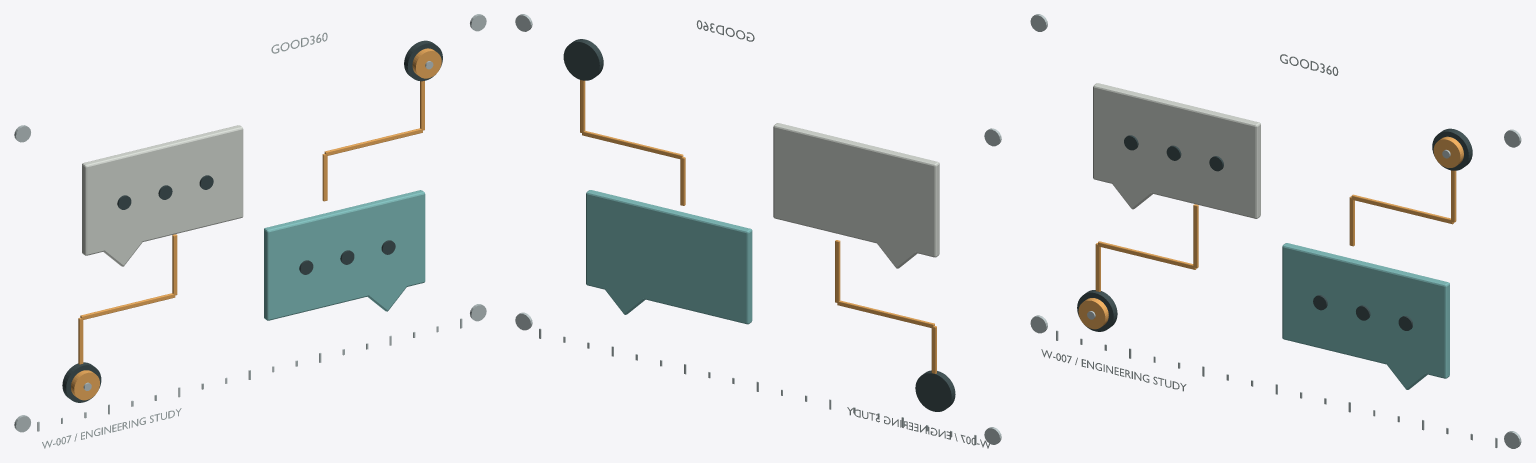
Rendered from good360.glb.
3 views of the same model, side by side, from view 1: azimuth 30°, elevation 25°; view 2: azimuth 150°, elevation 25°; view 3: azimuth 330°, elevation 25° (orthographic). The views are drawn at different scales.
Parts seen in each view (by area): view 1: optical-core__Project_Trace.002, optical-core__Project_Ceramic.005, optical-lenses__Project_Amber.002, optical-lenses__Project_Silver.006, optical-core__Project_Graphite.006, optical-core__Project_Amber.006; view 2: optical-core__Project_Ceramic.005, optical-core__Project_Trace.002, optical-core__Project_Graphite.006, optical-lenses__Project_Amber.002, optical-lenses__Project_Silver.006; view 3: optical-core__Project_Trace.002, optical-core__Project_Ceramic.005, optical-lenses__Project_Amber.002, optical-lenses__Project_Silver.006, optical-core__Project_Graphite.006, optical-core__Project_Amber.006.
Boxes of the visible parts, x1=… form: optical-core__Project_Trace.002: x1=264, y1=190, x2=425, y2=320; optical-core__Project_Ceramic.005: x1=82, y1=125, x2=243, y2=266; optical-lenses__Project_Amber.002: x1=78, y1=81, x2=424, y2=364; optical-lenses__Project_Silver.006: x1=14, y1=14, x2=486, y2=448; optical-core__Project_Graphite.006: x1=62, y1=40, x2=442, y2=402; optical-core__Project_Amber.006: x1=71, y1=48, x2=441, y2=400; optical-core__Project_Ceramic.005: x1=773, y1=123, x2=939, y2=268; optical-core__Project_Trace.002: x1=586, y1=190, x2=752, y2=324; optical-core__Project_Graphite.006: x1=563, y1=39, x2=955, y2=411; optical-lenses__Project_Amber.002: x1=580, y1=80, x2=936, y2=373; optical-lenses__Project_Silver.006: x1=515, y1=14, x2=1001, y2=448; optical-core__Project_Trace.002: x1=1282, y1=243, x2=1449, y2=389; optical-core__Project_Ceramic.005: x1=1093, y1=83, x2=1260, y2=218; optical-lenses__Project_Amber.002: x1=1095, y1=170, x2=1456, y2=291; optical-lenses__Project_Silver.006: x1=1030, y1=14, x2=1521, y2=448; optical-core__Project_Graphite.006: x1=1077, y1=128, x2=1472, y2=331; optical-core__Project_Amber.006: x1=1078, y1=136, x2=1463, y2=329.
Size of the model in its own units: 4.01 by 2.83 by 0.1417.
